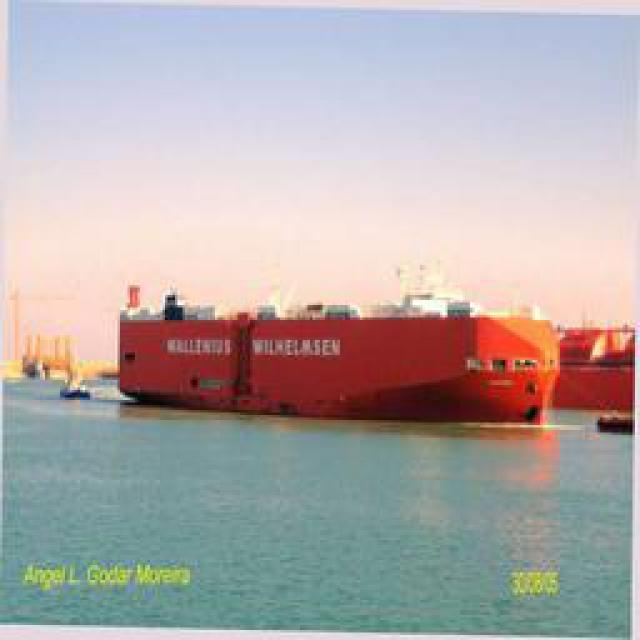Ship: (118, 285, 556, 425)
